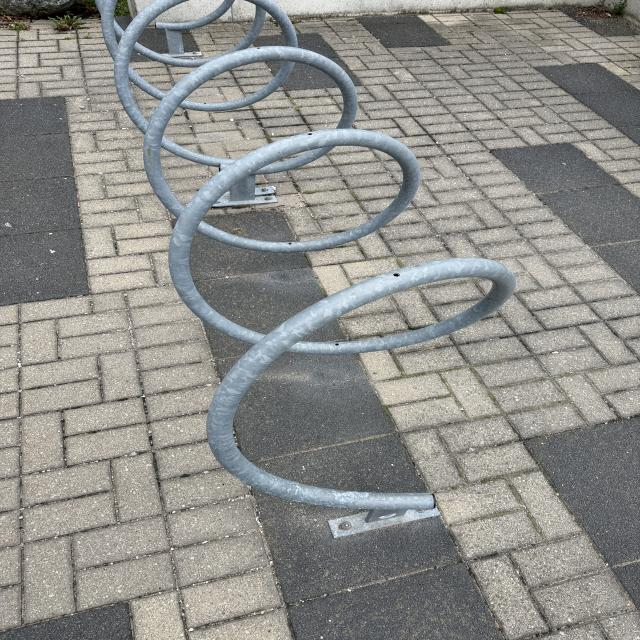Bicycle Rack: (93, 0, 519, 537)
